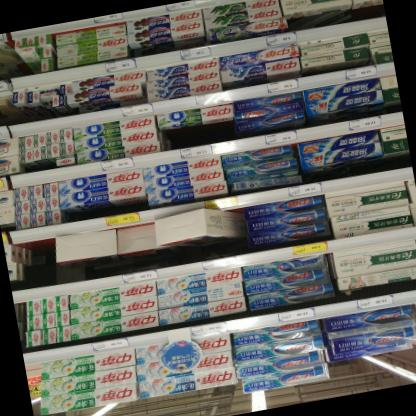empty_space: (11, 236, 51, 258)
